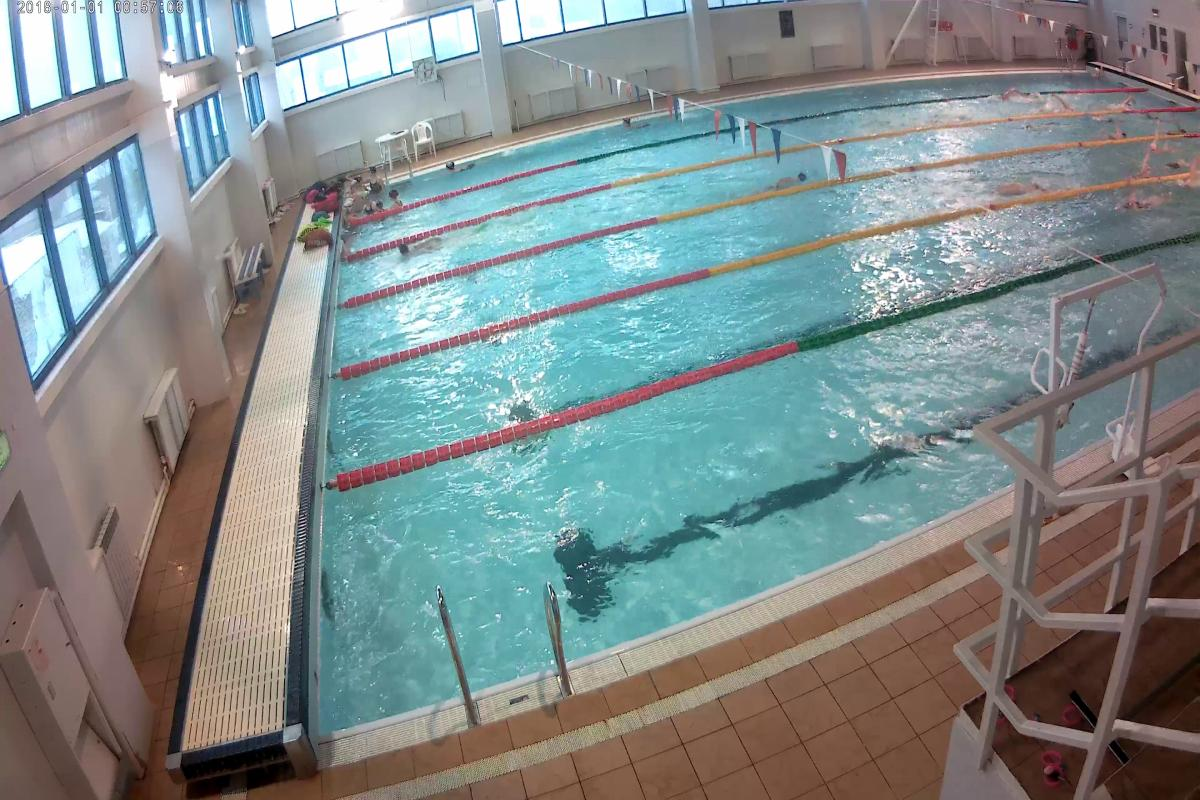swimmer: (768, 169, 812, 197), (997, 174, 1047, 196), (1116, 191, 1170, 209), (1130, 149, 1156, 180), (995, 85, 1033, 103), (394, 240, 436, 256), (1102, 119, 1134, 136)
